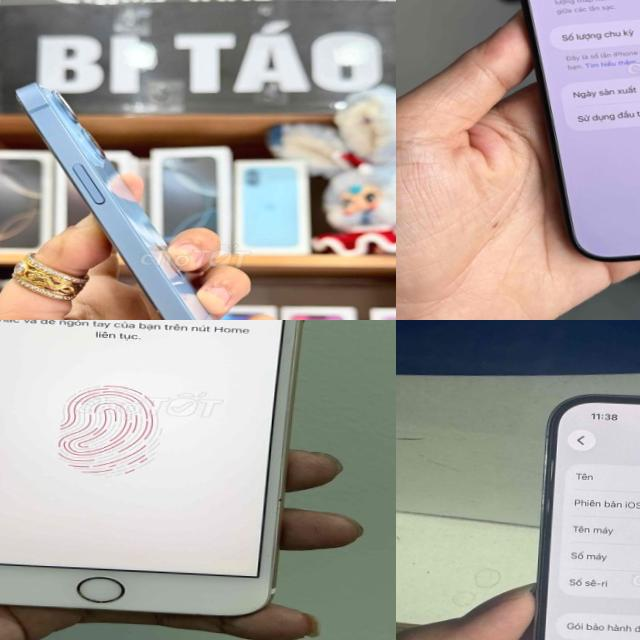gen_14: (0, 66, 334, 320), (515, 378, 640, 640)
gen_15: (476, 0, 640, 285)
gen_6: (0, 320, 302, 615)
